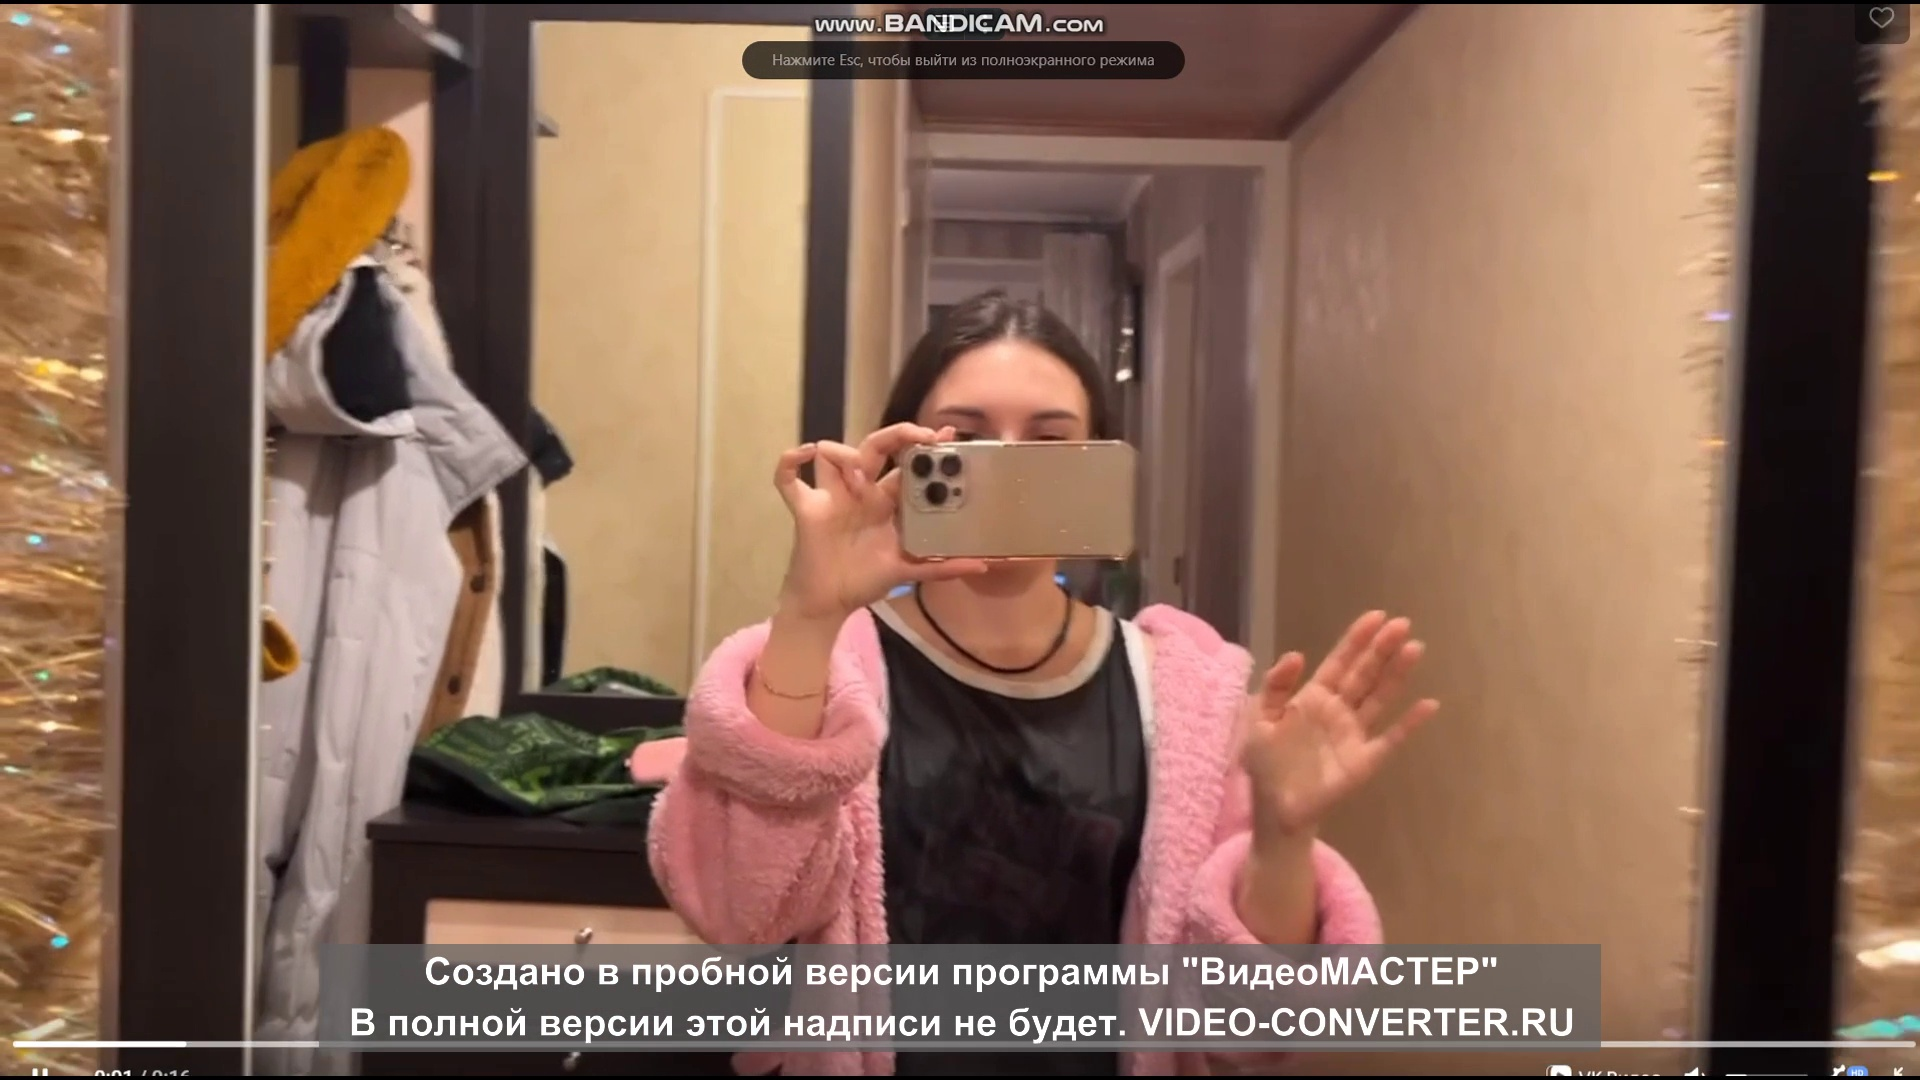Ладонь: (1241, 611, 1443, 831)
